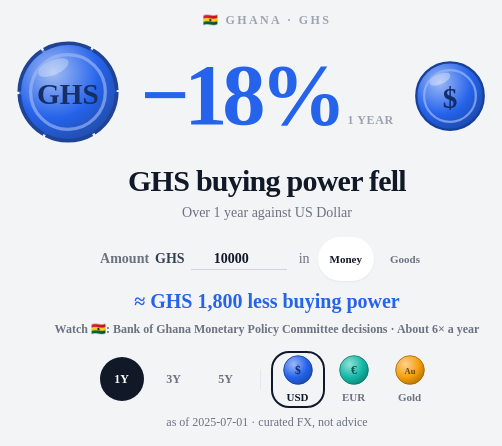
Scenario: CurrencyMomentCard — Home opening artifact › reduced motion swaps units in place — same reading, no shine
Click the button "Goods".
click(405, 259)  # box [378,237,432,281]
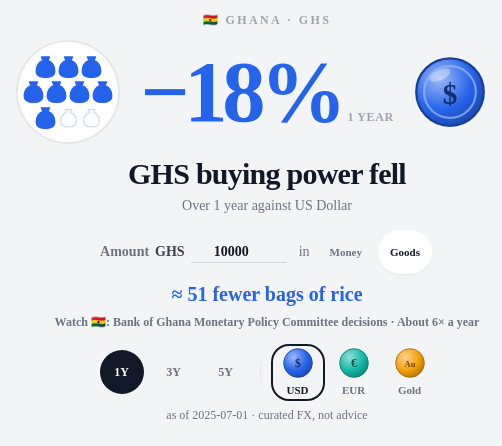
Expected: the element with test id "home-consequence" does not show "buying power", [171,283,362,305]
Expected: the element with test id "home-consequence" reads "≈ 51 fewer bags of rice", [171,283,362,305]
